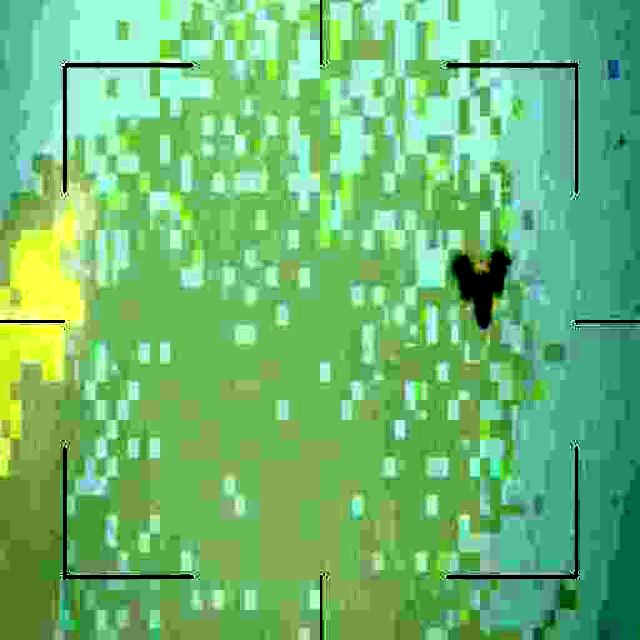bird: (450, 238, 509, 334)
